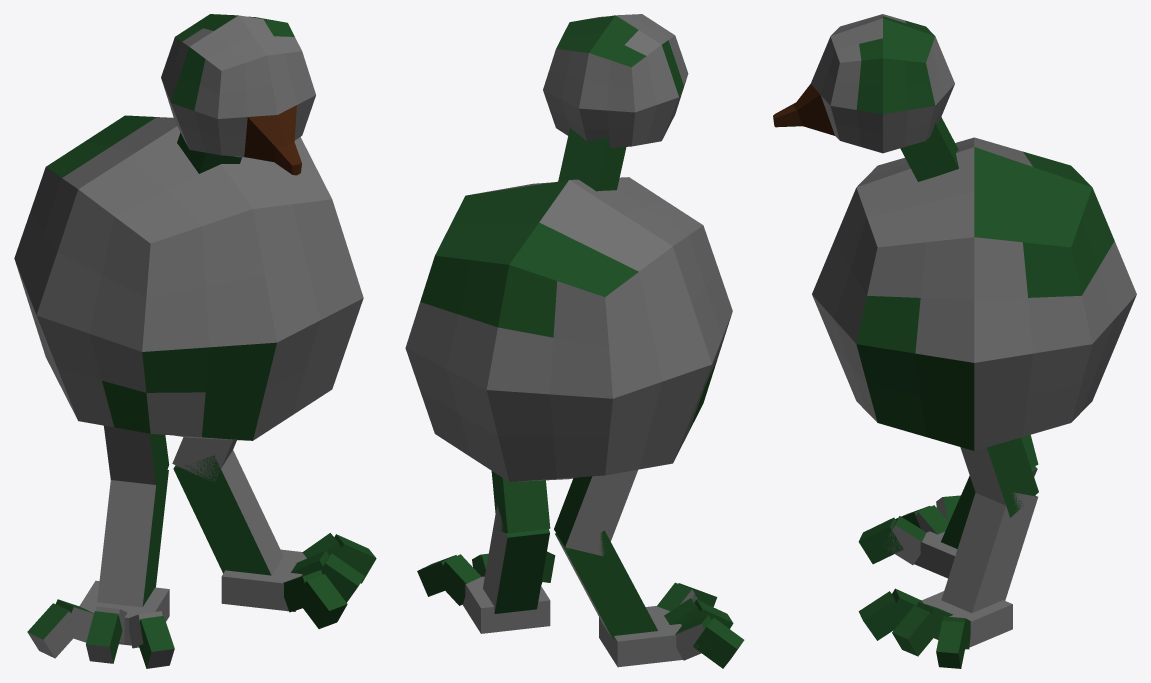
The model's file is Stomu.fbx.
3 renders of one model, left to right at view 1: azimuth 30°, elevation 25°; view 2: azimuth 150°, elevation 25°; view 3: azimuth 270°, elevation 25°, orthographic. The views are drawn at different scales.
Visible parts, largest first — view 1: Cube.018, Cube.019, Cube.008, Cube.009, Cube.020; view 2: Cube.018, Cube.008, Cube.019, Cube.009, Cube.020; view 3: Cube.018, Cube.009, Cube.019, Cube.008, Cube.020.
Boxes of the visible parts, x1,y1,x2,y2 form: Cube.018: [14, 115, 363, 440]; Cube.019: [161, 14, 315, 175]; Cube.008: [27, 425, 174, 668]; Cube.009: [172, 437, 376, 628]; Cube.020: [177, 132, 241, 173]; Cube.018: [405, 177, 732, 481]; Cube.008: [554, 469, 744, 668]; Cube.019: [543, 14, 688, 147]; Cube.009: [417, 471, 555, 633]; Cube.020: [558, 128, 626, 191]; Cube.018: [812, 137, 1136, 450]; Cube.009: [858, 437, 1038, 668]; Cube.019: [773, 14, 954, 153]; Cube.008: [858, 435, 1038, 578]; Cube.020: [900, 117, 958, 181].
Size of the model in its own units: 1030 by 1809 by 1029.
